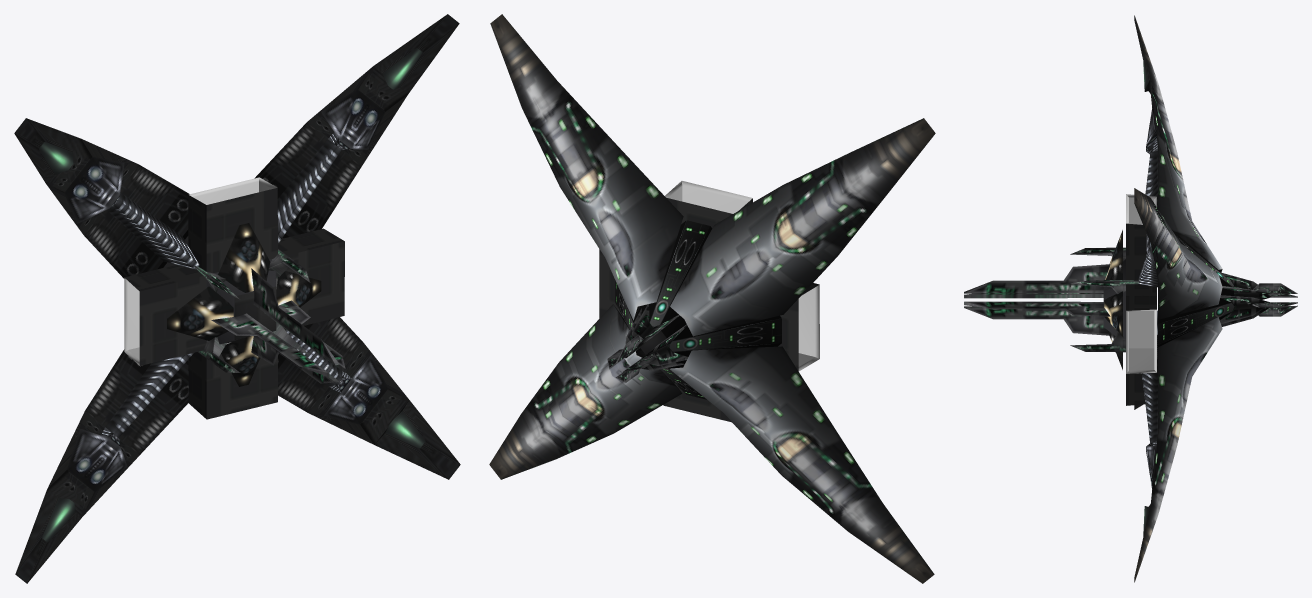
Rendered from ss100_static.obj.
The picture shows the model from 3 angles, left to right: view 1: azimuth 30°, elevation 25°; view 2: azimuth 150°, elevation 25°; view 3: azimuth 270°, elevation 25°; orthographic projection. The views are drawn at different scales.
Visible parts, largest first — view 1: frm-cube1_27, frm-cube1_29, frm-cube1_31, frm-cube1_30, frm-east_bay_11_10, frm-east_bay_11_6, frm-east_bay_11_8, frm-east_bay_11_9, frm-cube22_2_25, frm-cube22_2_28, frm-extru45, frm-extru44 (+7 smaller); view 2: frm-cube1_27, frm-cube1_31, frm-cube1_29, frm-cube1_30, frm-cube5_1, frm-east_bay_11_10, frm-east_bay_11_6, frm-east_bay_11_8, frm-east_bay_11_9, frm-extru22, frm-extru34; view 3: frm-cube1_30, frm-cube1_29, frm-cube1_27, frm-east_bay_11_9, frm-extru45, frm-cube5_1, frm-extru43, frm-east_bay_11_6, frm-extru15, frm-extru44, frm-extru35, frm-cube22_2_2 (+6 smaller).
Boxes of the visible parts, x1=… form: frm-cube1_27: x1=14, y1=118, x2=199, y2=278; frm-cube1_29: x1=254, y1=14, x2=459, y2=243; frm-cube1_31: x1=15, y1=349, x2=193, y2=583; frm-cube1_30: x1=278, y1=317, x2=460, y2=479; frm-east_bay_11_10: x1=124, y1=264, x2=206, y2=365; frm-east_bay_11_6: x1=188, y1=177, x2=277, y2=273; frm-east_bay_11_8: x1=188, y1=342, x2=277, y2=419; frm-east_bay_11_9: x1=276, y1=228, x2=344, y2=330; frm-cube22_2_25: x1=167, y1=286, x2=233, y2=340; frm-cube22_2_28: x1=218, y1=223, x2=270, y2=292; frm-extru45: x1=251, y1=268, x2=339, y2=365; frm-extru44: x1=211, y1=313, x2=329, y2=377; frm-cube1_27: x1=670, y1=118, x2=935, y2=336; frm-cube1_31: x1=670, y1=346, x2=934, y2=583; frm-cube1_29: x1=490, y1=14, x2=683, y2=320; frm-cube1_30: x1=489, y1=304, x2=682, y2=479; frm-cube5_1: x1=615, y1=220, x2=781, y2=399; frm-east_bay_11_10: x1=778, y1=283, x2=819, y2=371; frm-east_bay_11_6: x1=665, y1=181, x2=752, y2=228; frm-east_bay_11_8: x1=663, y1=384, x2=731, y2=422; frm-east_bay_11_9: x1=599, y1=249, x2=621, y2=318; frm-extru22: x1=641, y1=324, x2=688, y2=365; frm-extru34: x1=631, y1=304, x2=679, y2=350; frm-cube1_30: x1=1134, y1=317, x2=1222, y2=582; frm-cube1_29: x1=1134, y1=188, x2=1222, y2=319; frm-cube1_27: x1=1134, y1=15, x2=1222, y2=272; frm-east_bay_11_9: x1=1126, y1=284, x2=1156, y2=373; frm-extru45: x1=964, y1=264, x2=1110, y2=293; frm-cube5_1: x1=1158, y1=236, x2=1233, y2=347; frm-extru43: x1=964, y1=306, x2=1109, y2=335; frm-east_bay_11_6: x1=1126, y1=194, x2=1156, y2=280; frm-extru15: x1=964, y1=301, x2=1110, y2=316; frm-extru44: x1=964, y1=293, x2=1103, y2=298; frm-extru35: x1=1220, y1=295, x2=1269, y2=323; frm-cube22_2_2: x1=1104, y1=291, x2=1122, y2=336.
Size of the model in its own units: 91.78 by 91.78 by 69.96.
